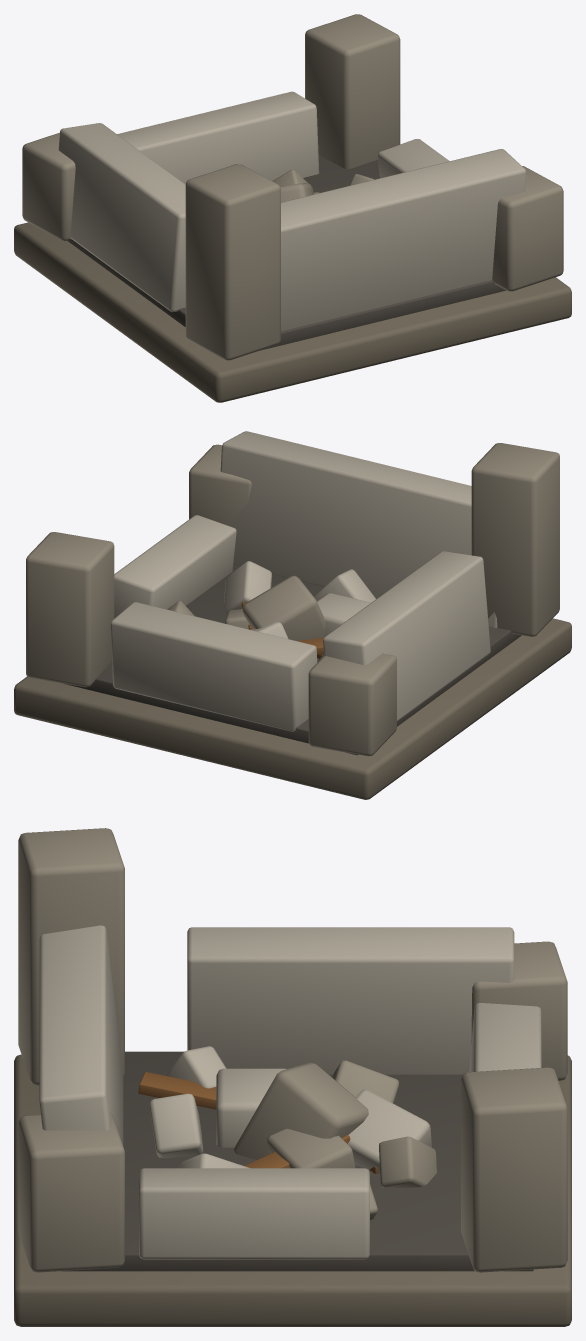
The model's file is tower_ruin.glb.
3 renders of one model, top to bottom at view 1: azimuth 30°, elevation 25°; view 2: azimuth 150°, elevation 25°; view 3: azimuth 270°, elevation 25°, orthographic. The views are drawn at different scales.
Visible parts, largest first — view 1: SK_tower_ruin; view 2: SK_tower_ruin; view 3: SK_tower_ruin.
Boxes of the visible parts, left/top/right/bottom form: SK_tower_ruin: left=14, top=14, right=571, bottom=402; SK_tower_ruin: left=14, top=431, right=571, bottom=799; SK_tower_ruin: left=14, top=828, right=571, bottom=1326.
Size of the model in its own units: 2.9 by 1.55 by 2.9.
